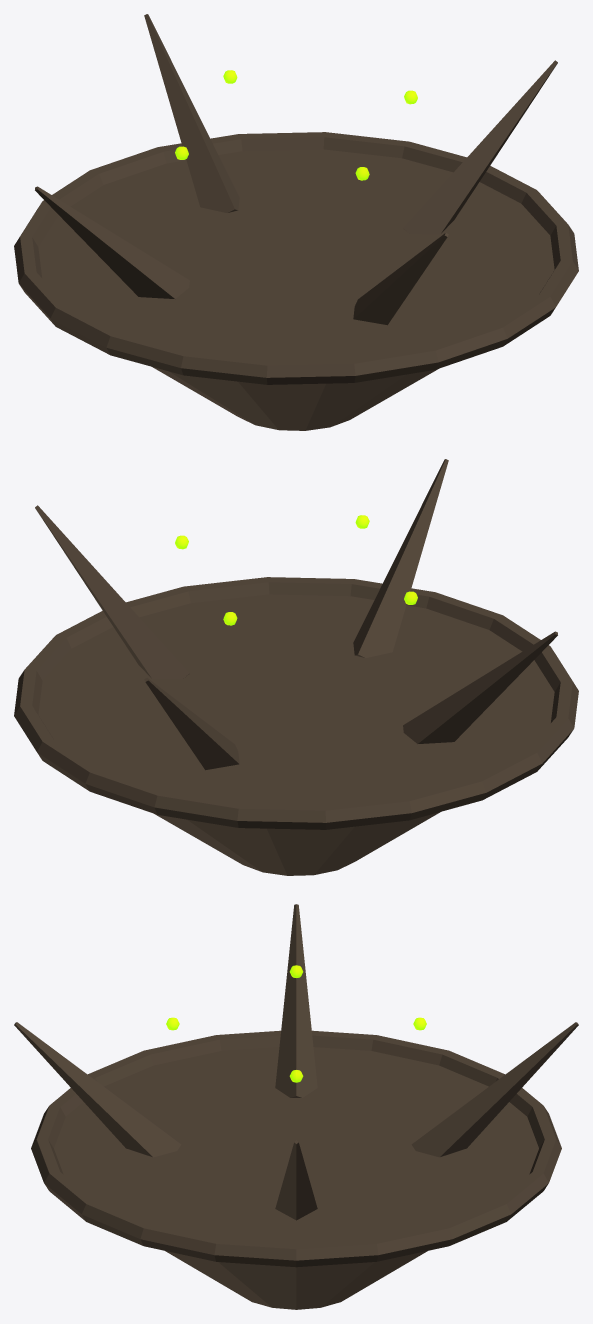
File: verdant_acid_pool.glb
3 renders of one model, top to bottom at view 1: azimuth 30°, elevation 25°; view 2: azimuth 150°, elevation 25°; view 3: azimuth 270°, elevation 25°, orthographic. The views are drawn at different scales.
Visible parts, largest first — view 1: VerdantAcidPool; view 2: VerdantAcidPool; view 3: VerdantAcidPool.
Boxes of the visible parts, bbox=[...] form: VerdantAcidPool: bbox=[14, 14, 578, 430]; VerdantAcidPool: bbox=[14, 459, 578, 875]; VerdantAcidPool: bbox=[14, 904, 578, 1309].
Size of the model in its own units: 4.94 by 2.56 by 4.94.
